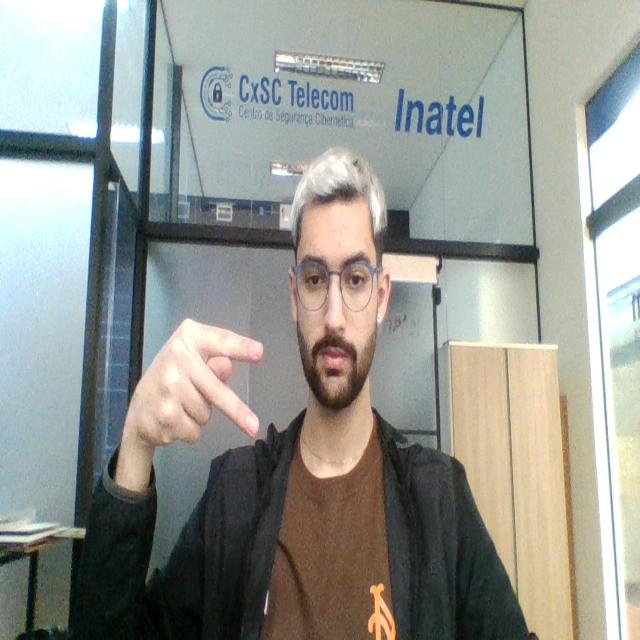P: (119, 320, 269, 459)
